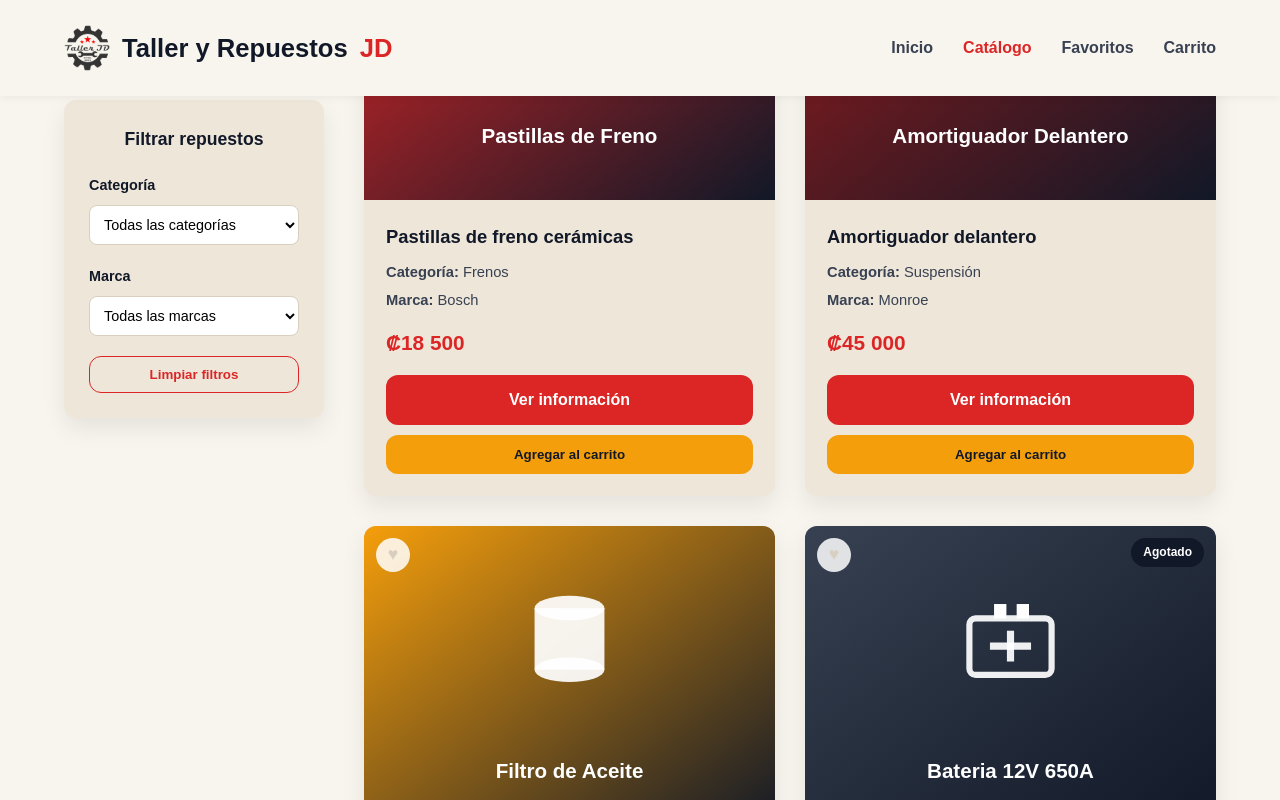
it: Navegación SPA y React Router › "Ver información" lleva al detalle del repuesto usando el parámetro :id
(page scrolled)
Note: La primera tarjeta es "Pastillas de freno cerámicas" (id 1)
Step 1. Click the link "Ver información" below "18 500" → (570, 400), box [386,375,753,425]
(page scrolled)
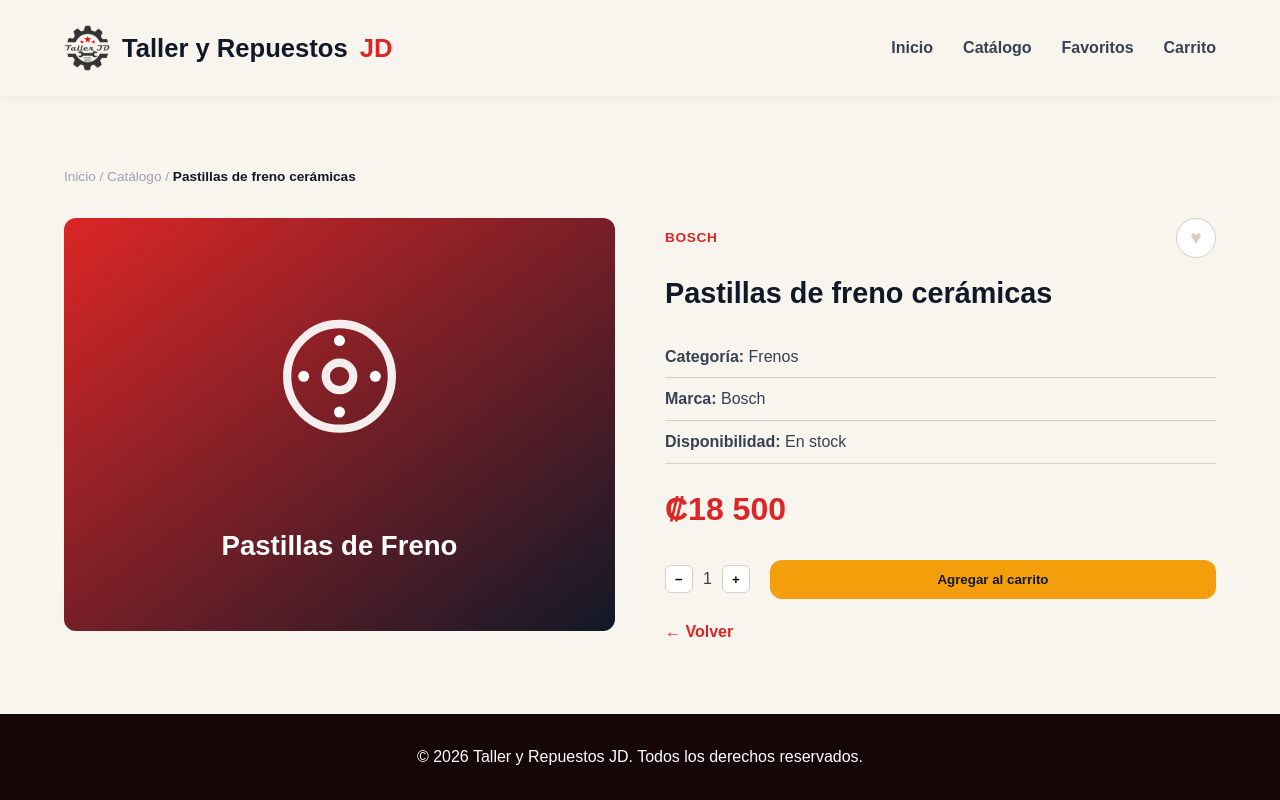
Now the heading "Pastillas de freno cerámicas" is shown, box [665,277,1052,309]
